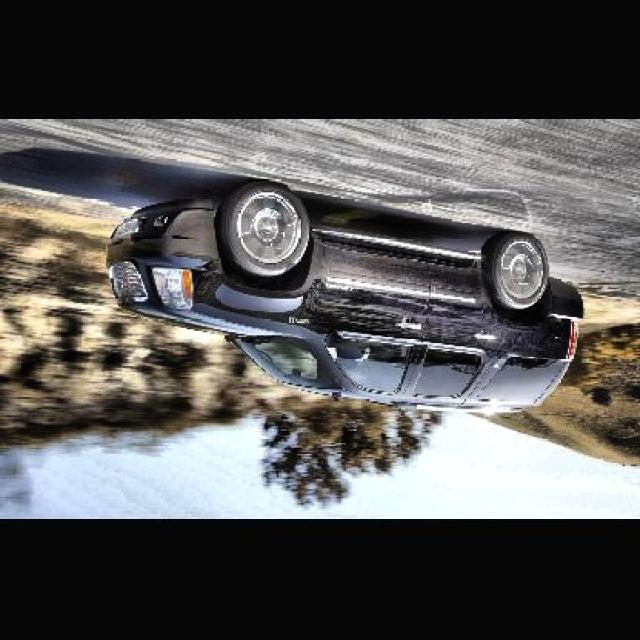black: (86, 220, 640, 408)
